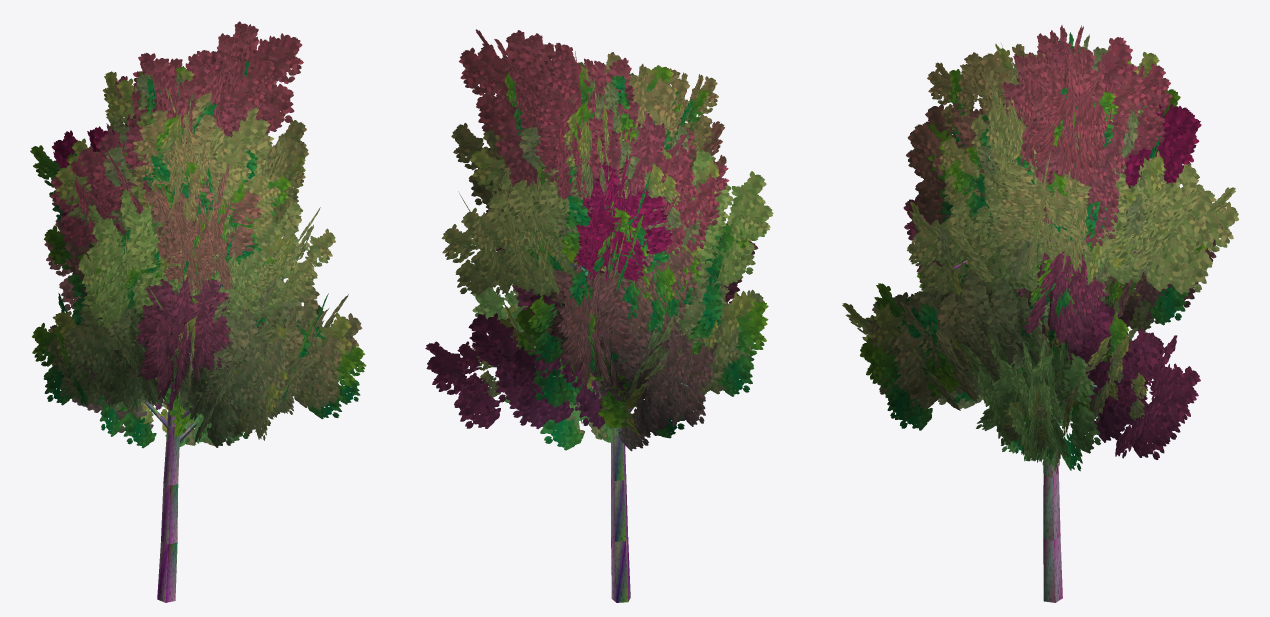
File: nat_birch_b_LOD1.glb
The picture shows the model from 3 angles, left to right: view 1: azimuth 30°, elevation 25°; view 2: azimuth 150°, elevation 25°; view 3: azimuth 270°, elevation 25°; orthographic projection. The views are drawn at different scales.
Parts seen in each view (by area): view 1: nat_birch_b_LOD1; view 2: nat_birch_b_LOD1; view 3: nat_birch_b_LOD1.
Part boxes in pixels (x1,y1,x2,y2): nat_birch_b_LOD1: (30, 21, 366, 602); nat_birch_b_LOD1: (425, 29, 773, 602); nat_birch_b_LOD1: (842, 25, 1238, 602).
Bounding box in the file's own units: 4.45 × 7.43 × 4.88.
Materials: 2 (2 with a texture image).
